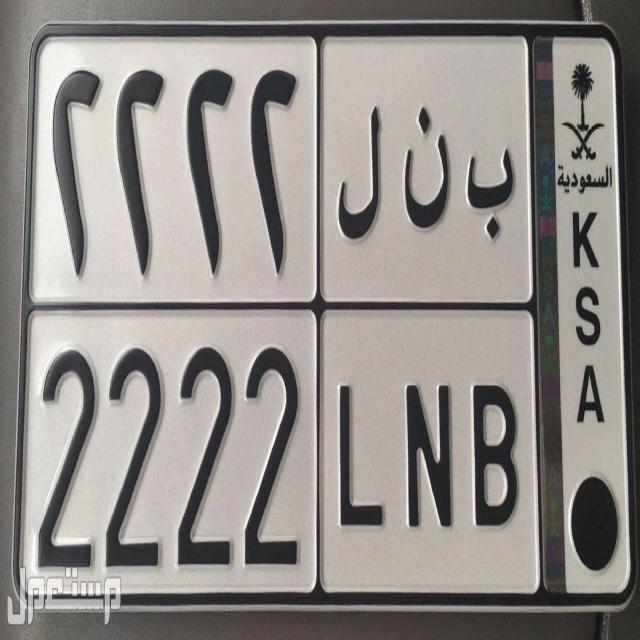license_plate: (23, 299, 544, 605)
